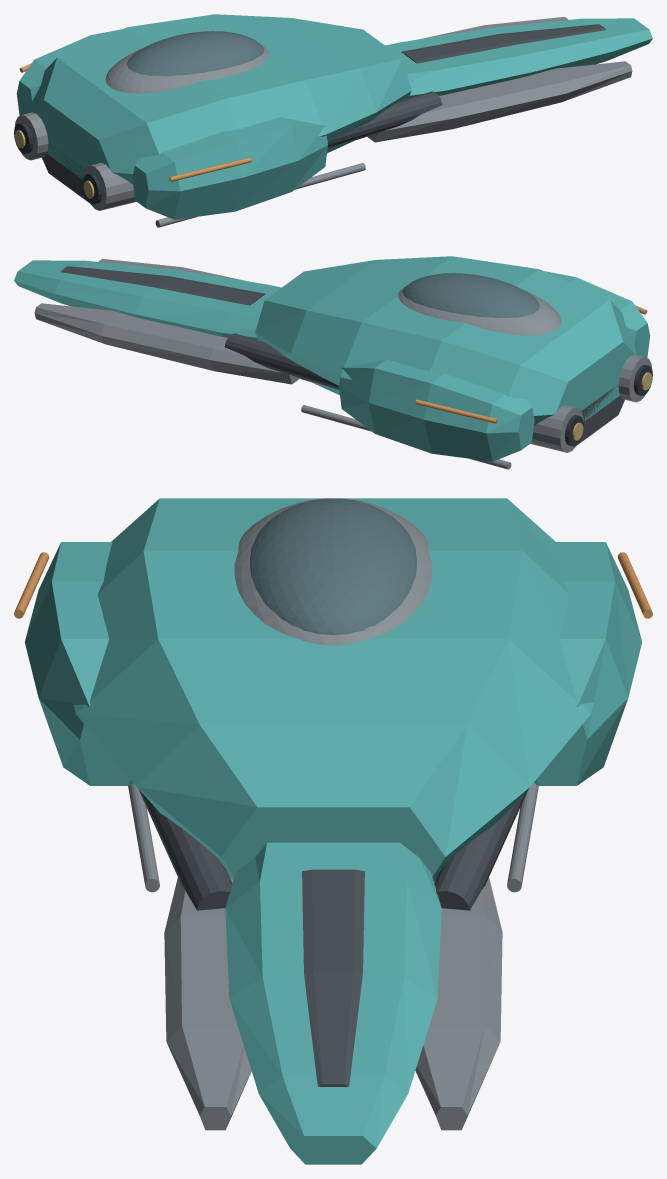
The model's file is scud_teal_off.glb.
3 renders of one model, top to bottom at view 1: azimuth 30°, elevation 25°; view 2: azimuth 150°, elevation 25°; view 3: azimuth 270°, elevation 25°, orthographic. The views are drawn at different scales.
Parts seen in each view (by area): view 1: rear_core_0, rear_side_body_5, forward_body_2, forward_side_fin_7, canopy_glass_4, front_inset_14, canopy_rim_3, rear_engine_housing_9, connecting_arm_8, lower_keel_1, underside_ski_12, rear_engine_face_10 (+2 smaller); view 2: rear_core_0, rear_side_body_5, forward_body_2, forward_side_fin_7, canopy_glass_4, front_inset_14, canopy_rim_3, rear_engine_housing_9, connecting_arm_8, lower_keel_1, underside_ski_12, rear_engine_face_10 (+2 smaller); view 3: rear_core_0, forward_body_2, rear_side_body_5, forward_side_fin_7, canopy_glass_4, front_inset_14, connecting_arm_8, canopy_rim_3, underside_ski_12, side_light_6.
Part boxes in pixels (x1,y1,x2,y2): rear_core_0: (31, 14, 411, 184); rear_side_body_5: (16, 29, 327, 219); forward_body_2: (385, 18, 652, 97); forward_side_fin_7: (366, 16, 632, 142); canopy_glass_4: (127, 31, 264, 76); front_inset_14: (401, 24, 605, 63); canopy_rim_3: (105, 44, 268, 93); rear_engine_housing_9: (14, 112, 136, 210); connecting_arm_8: (327, 91, 442, 147); lower_keel_1: (42, 136, 366, 202); underside_ski_12: (155, 163, 365, 227); rear_engine_face_10: (14, 122, 101, 204); rear_core_0: (255, 256, 635, 425); rear_side_body_5: (339, 271, 650, 461); forward_body_2: (14, 260, 281, 339); forward_side_fin_7: (34, 258, 300, 384); canopy_glass_4: (402, 273, 539, 318); front_inset_14: (61, 266, 265, 305); canopy_rim_3: (398, 286, 561, 335); rear_engine_housing_9: (530, 354, 652, 452); connecting_arm_8: (224, 333, 339, 389); lower_keel_1: (300, 378, 624, 444); underside_ski_12: (301, 405, 511, 469); rear_engine_face_10: (565, 364, 652, 446); rear_core_0: (73, 498, 594, 881); forward_body_2: (225, 842, 441, 1164); rear_side_body_5: (25, 542, 641, 785); forward_side_fin_7: (164, 876, 502, 1130); canopy_glass_4: (250, 498, 416, 634); front_inset_14: (302, 869, 364, 1086); connecting_arm_8: (138, 789, 528, 910); canopy_rim_3: (234, 499, 432, 645); underside_ski_12: (128, 783, 538, 892); side_light_6: (14, 552, 652, 618).
Size of the model in its own units: 6.7 by 1.37 by 3.25.
